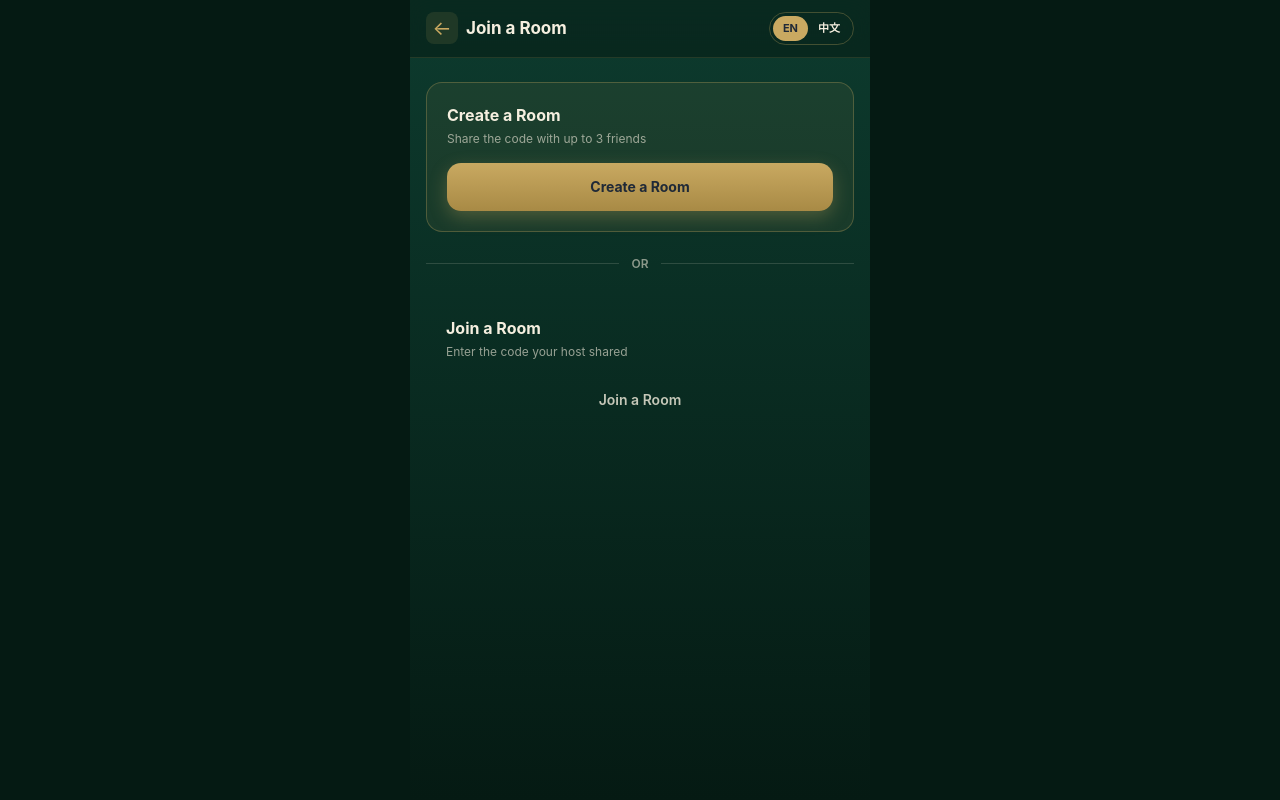
Test: LobbyPage › shows join code input when Join is clicked
# First "Join a Room" button in the page
Click the button "Join a Room" at (640, 400), box [446, 376, 834, 424]
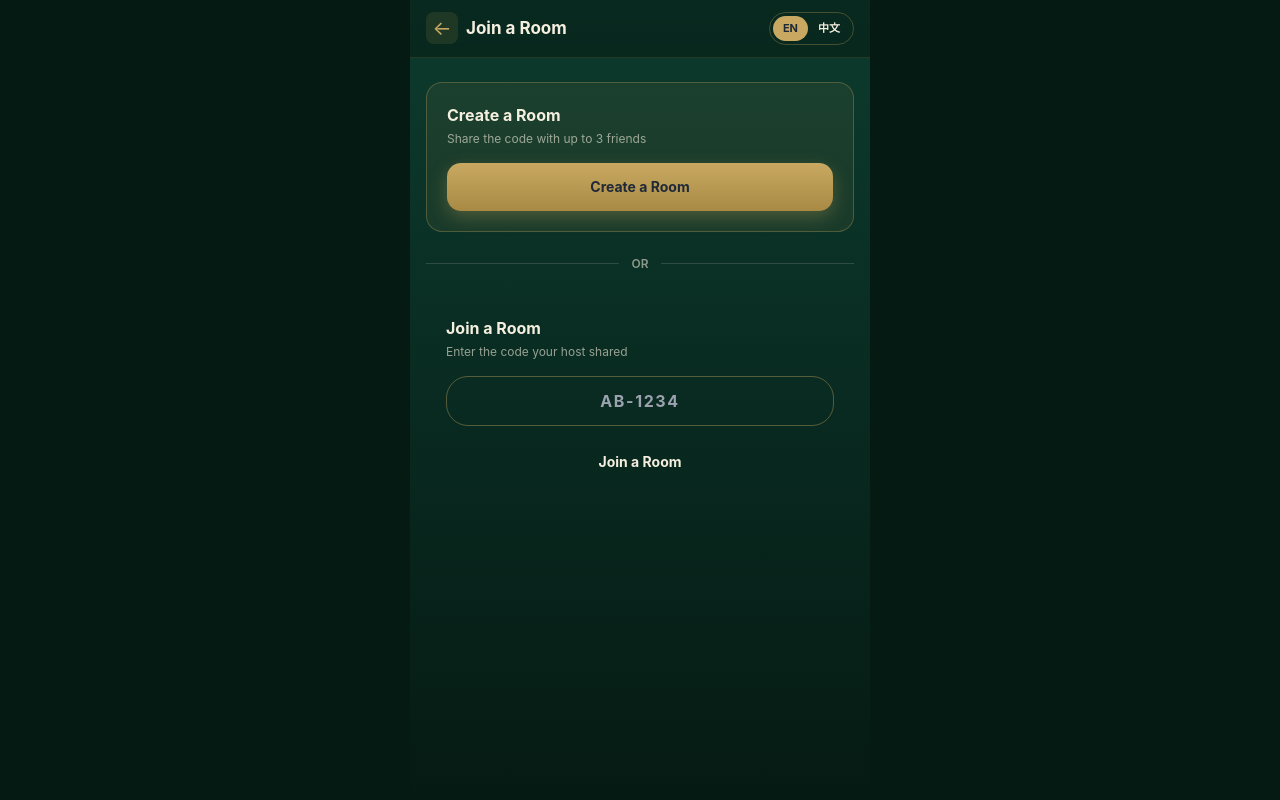
Expected: the field is shown, [446, 376, 834, 426]
